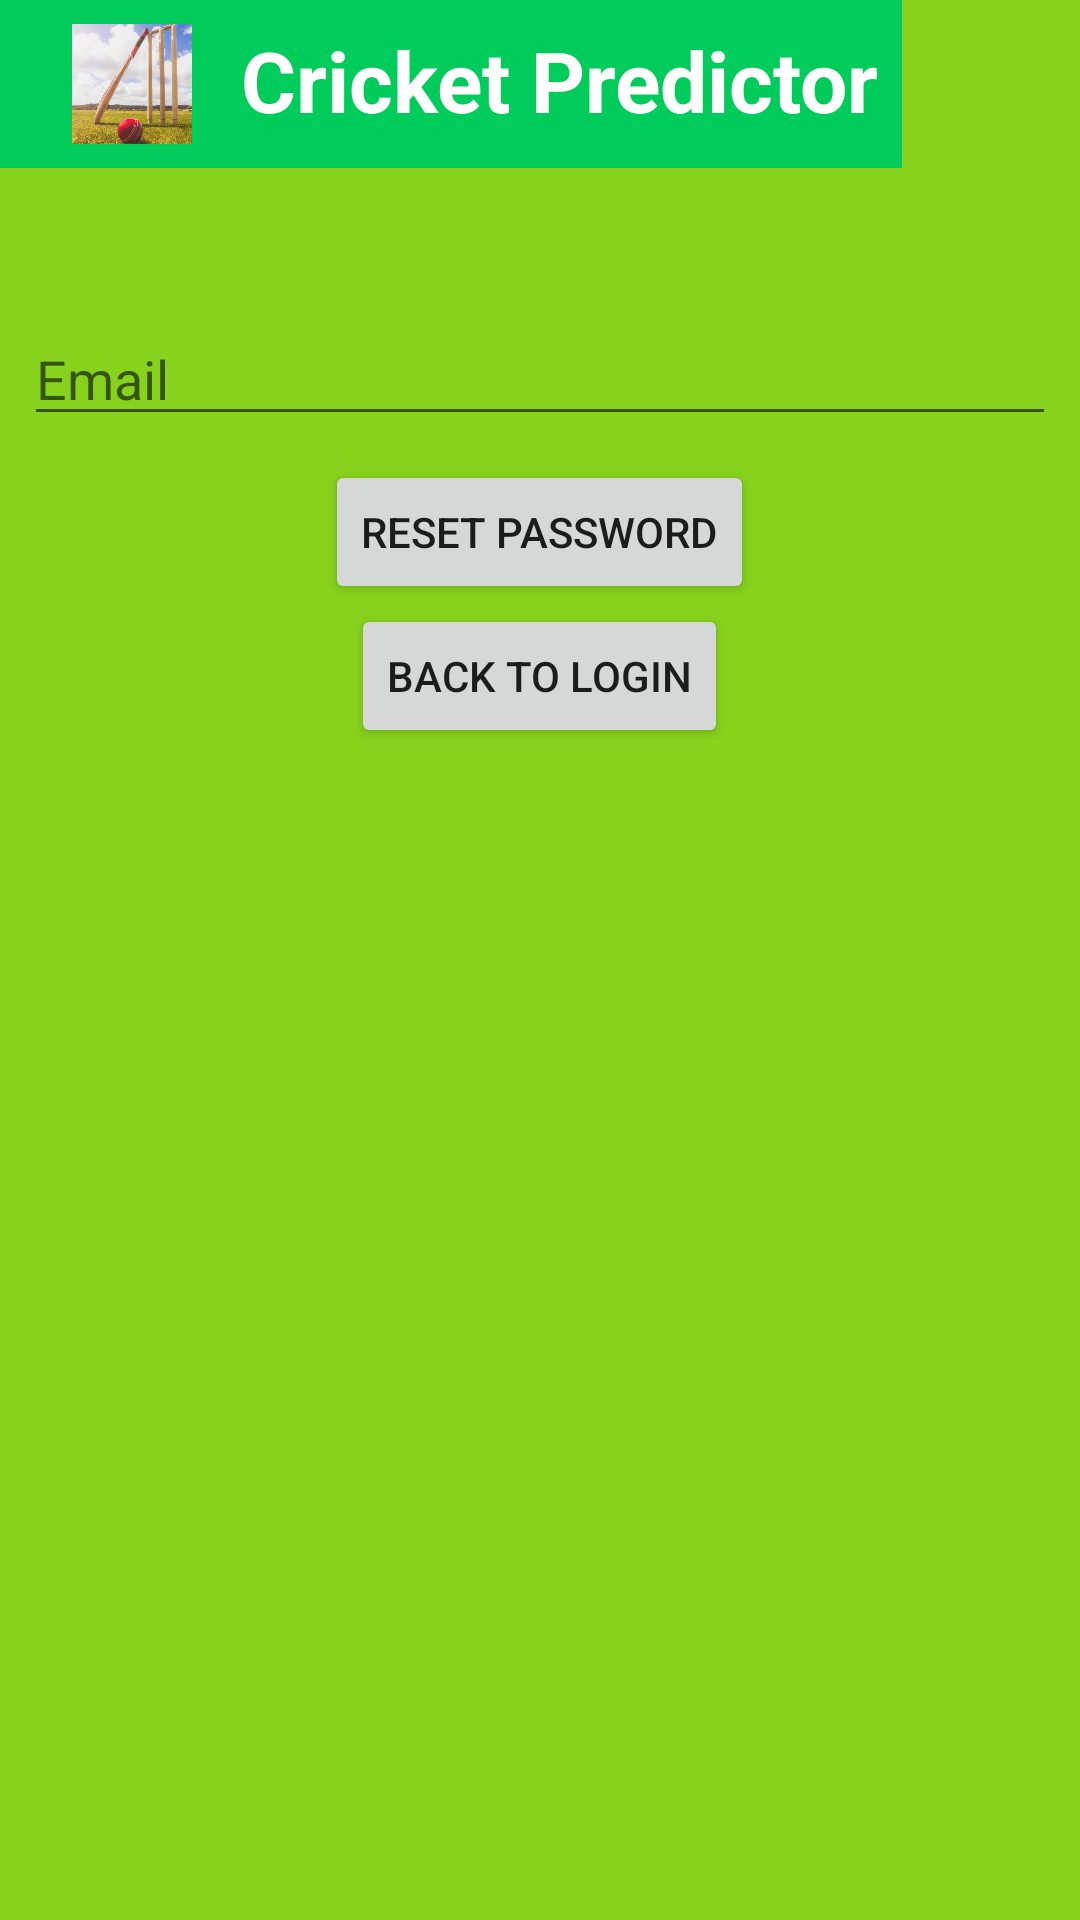

Where icons sit on this 1080 × 1920 app screen, as (x1, y1, x2, y2):
cricpredict: (72, 24, 192, 144)
